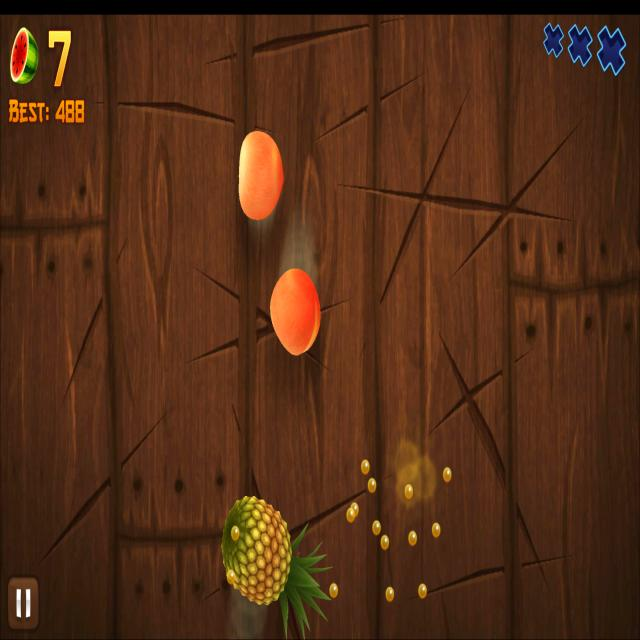fruit: (223, 493, 293, 608), (269, 266, 321, 356), (239, 130, 285, 220)
